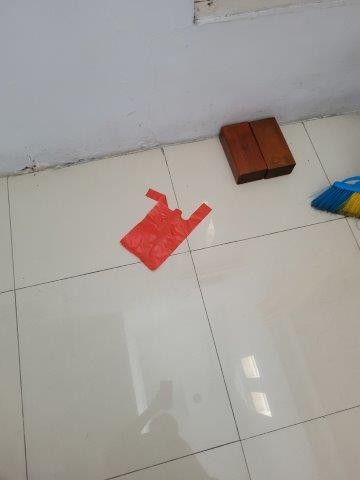plastik: (121, 186, 211, 272)
